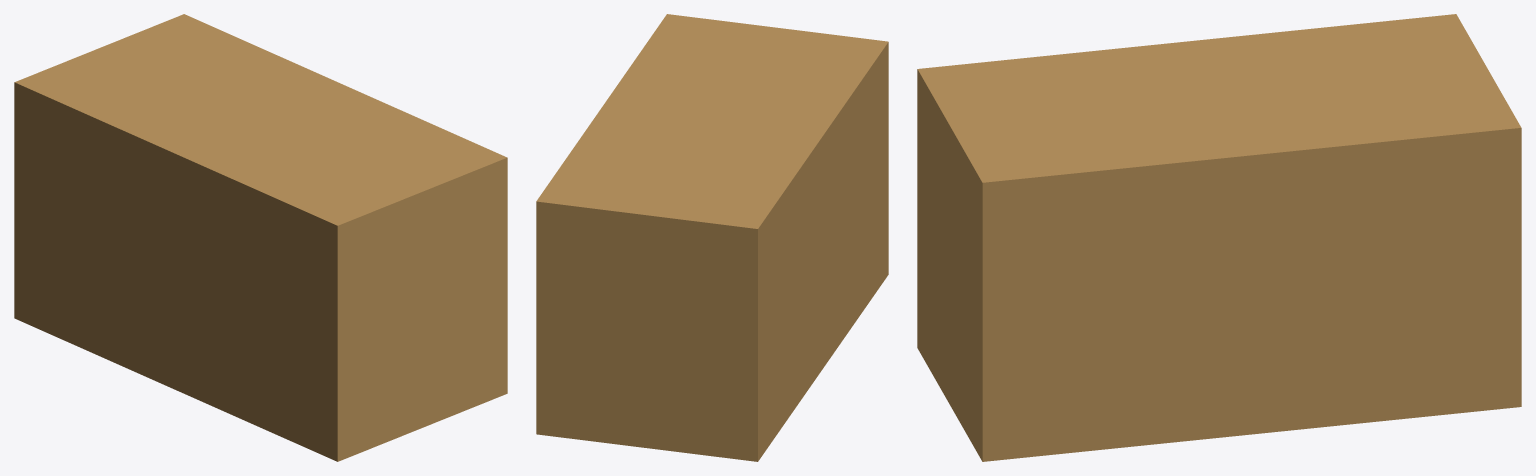
The picture shows the model from 3 angles, left to right: view 1: azimuth 30°, elevation 25°; view 2: azimuth 150°, elevation 25°; view 3: azimuth 270°, elevation 25°; orthographic projection. The views are drawn at different scales.
Parts seen in each view (by area): view 1: RUN-018-S03-STUD-00; view 2: RUN-018-S03-STUD-00; view 3: RUN-018-S03-STUD-00.
Part boxes in pixels (x1=…): RUN-018-S03-STUD-00: x1=14, y1=14, x2=507, y2=461; RUN-018-S03-STUD-00: x1=536, y1=14, x2=888, y2=461; RUN-018-S03-STUD-00: x1=917, y1=14, x2=1521, y2=461.
Size of the model in its own units: 0.0648 by 0.05 by 0.098.
